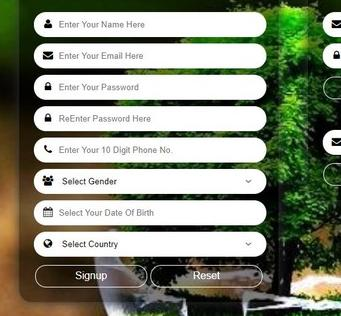button: (34, 263, 148, 289), (151, 263, 265, 289)
field: (33, 134, 268, 165), (32, 41, 268, 71), (32, 9, 267, 39), (32, 104, 268, 133), (34, 73, 269, 102), (33, 199, 268, 227)
